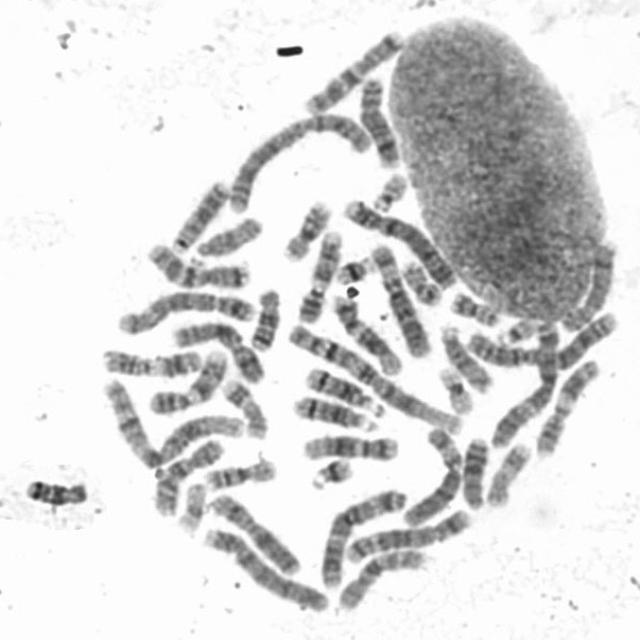A1: (282, 317, 465, 435), (98, 373, 232, 469)
A2: (222, 107, 374, 216), (464, 307, 622, 370)
A3: (485, 314, 564, 448), (314, 482, 410, 590)
B4: (196, 522, 331, 616), (338, 194, 459, 290)
B5: (340, 504, 473, 564), (110, 284, 259, 336)
C10: (148, 432, 227, 518), (332, 543, 429, 612)
C11: (532, 352, 604, 458), (96, 342, 205, 379)
C12: (326, 289, 405, 376), (297, 428, 402, 462)
C6: (366, 236, 434, 359), (397, 422, 466, 528)
C7: (298, 24, 407, 115), (142, 237, 253, 291)
C8: (558, 236, 621, 334), (354, 71, 404, 170)
C9: (144, 344, 232, 416), (293, 223, 346, 324)
D13: (165, 173, 232, 255), (458, 432, 492, 510)
D14: (301, 361, 388, 419), (287, 388, 380, 433)
D15: (435, 318, 497, 395), (190, 209, 266, 260)
E16: (277, 195, 334, 263), (200, 452, 280, 492)
E17: (482, 437, 534, 509), (218, 374, 270, 440)
E18: (247, 284, 284, 352), (20, 473, 91, 507)
F19: (432, 361, 475, 415), (172, 476, 210, 535)
F20: (397, 255, 445, 307), (446, 286, 503, 328)
G21: (304, 452, 356, 492), (330, 250, 377, 286)
G22: (367, 166, 410, 213), (492, 313, 540, 347)
X: (206, 488, 306, 577), (165, 316, 268, 384)
